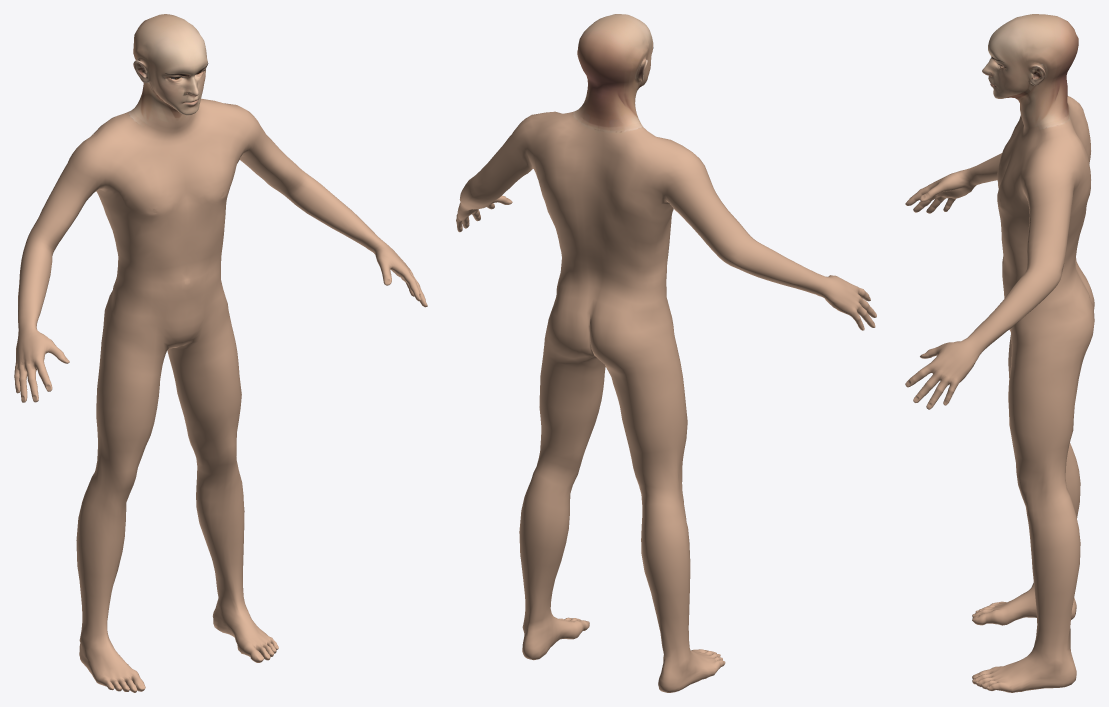
The model's file is head_base_v2_tex.glb.
The picture shows the model from 3 angles, left to right: view 1: azimuth 30°, elevation 25°; view 2: azimuth 150°, elevation 25°; view 3: azimuth 270°, elevation 25°; orthographic projection.
Parts seen in each view (by area): view 1: body; view 2: body; view 3: body.
Part boxes in pixels (<box>): body: <box>14,14,427,692</box>; body: <box>456,14,876,692</box>; body: <box>905,14,1094,692</box>.
Bounding box in the file's own units: 1.11 × 1.67 × 0.4497.
Materials: 4 (4 with a texture image).
